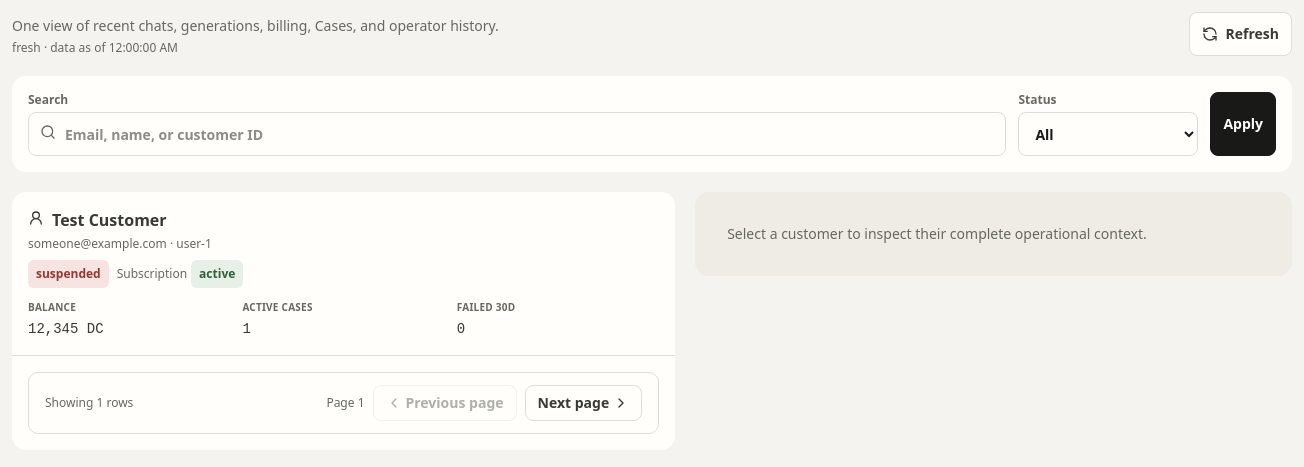
Test case: CustomerWorkspace 360 › shows the authority's total when it has one and only the page size when it does not
Click the button "Refresh" at {"x": 1240, "y": 34}, box [1188,12,1292,56]
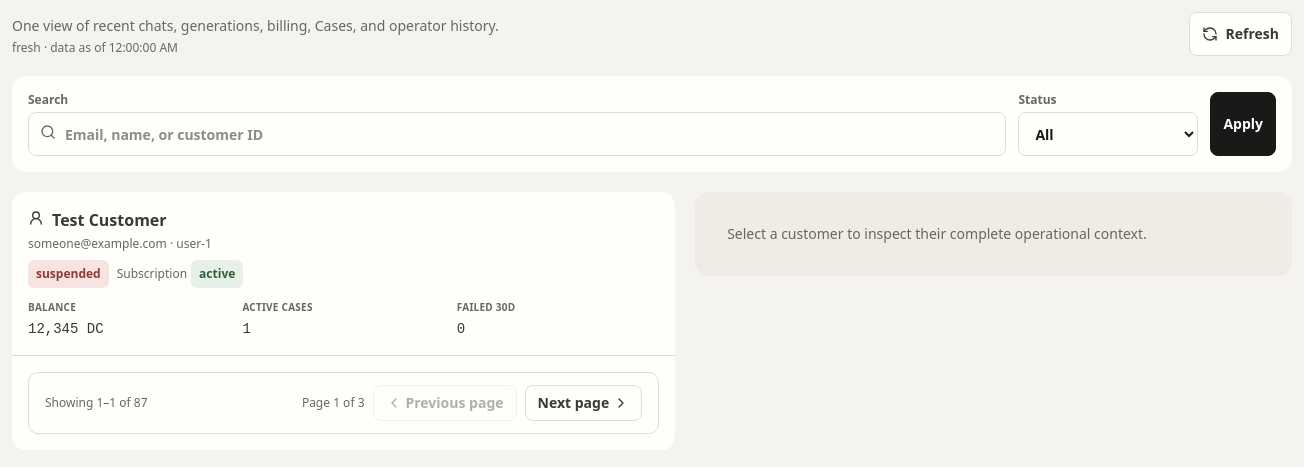
Expected: the text "Showing 1–1 of 87" is shown, [45,395,148,411]
